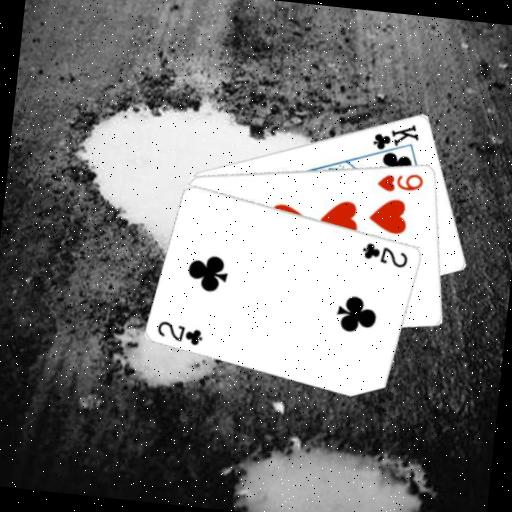2C: (358, 238, 411, 270), (153, 316, 206, 348)
9H: (374, 167, 427, 197)
KC: (368, 117, 422, 163)
